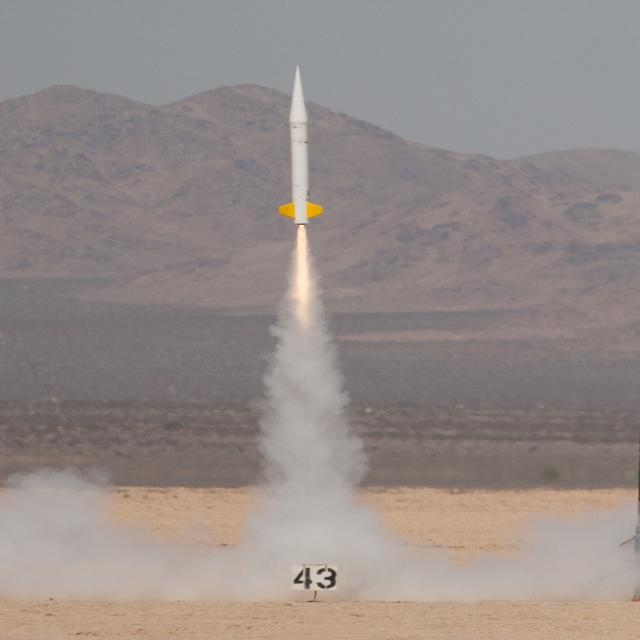rocket: (278, 61, 328, 350)
